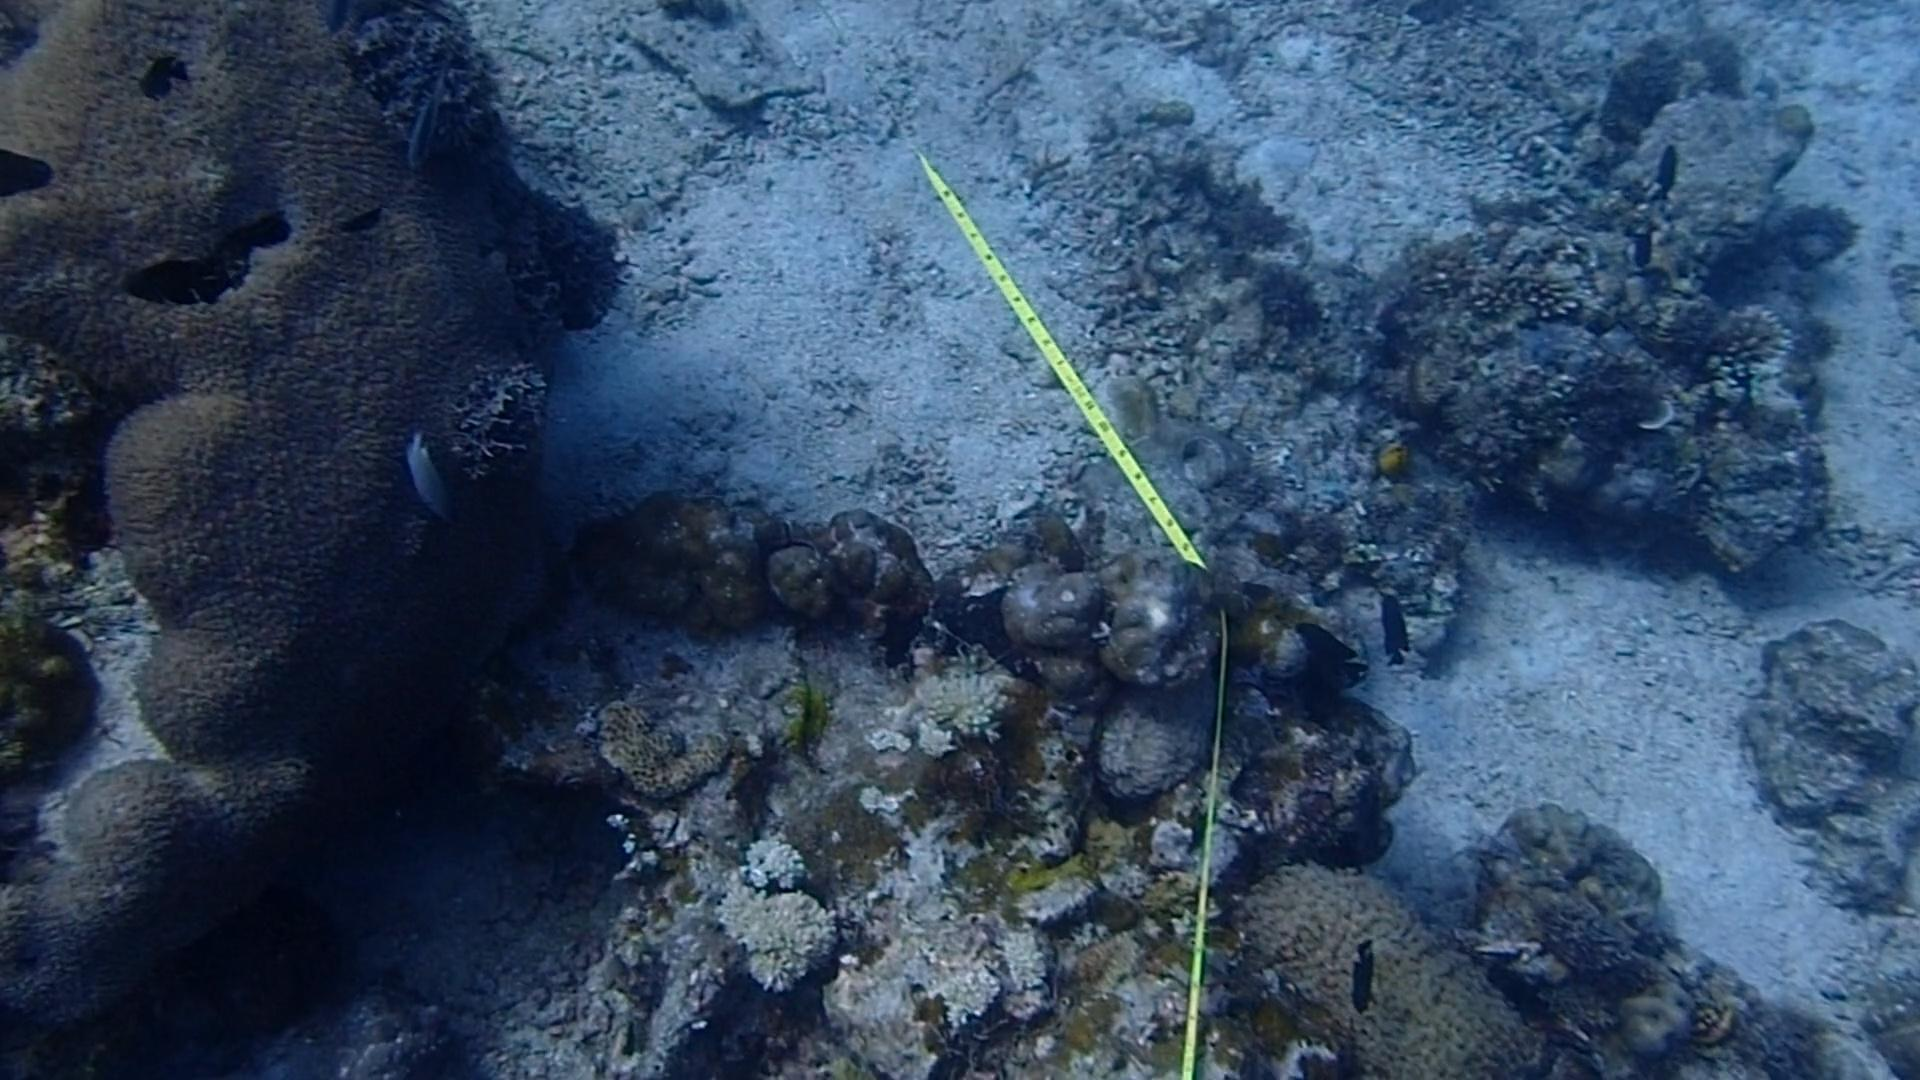Dark Fish: (107, 245, 233, 315), (1279, 615, 1375, 702), (1477, 955, 1556, 1038), (1362, 574, 1424, 675), (1346, 928, 1395, 1018), (123, 42, 196, 98), (328, 186, 392, 251), (1650, 137, 1689, 191), (1622, 220, 1660, 269)
Light Fish: (389, 421, 471, 530), (404, 62, 456, 175)
